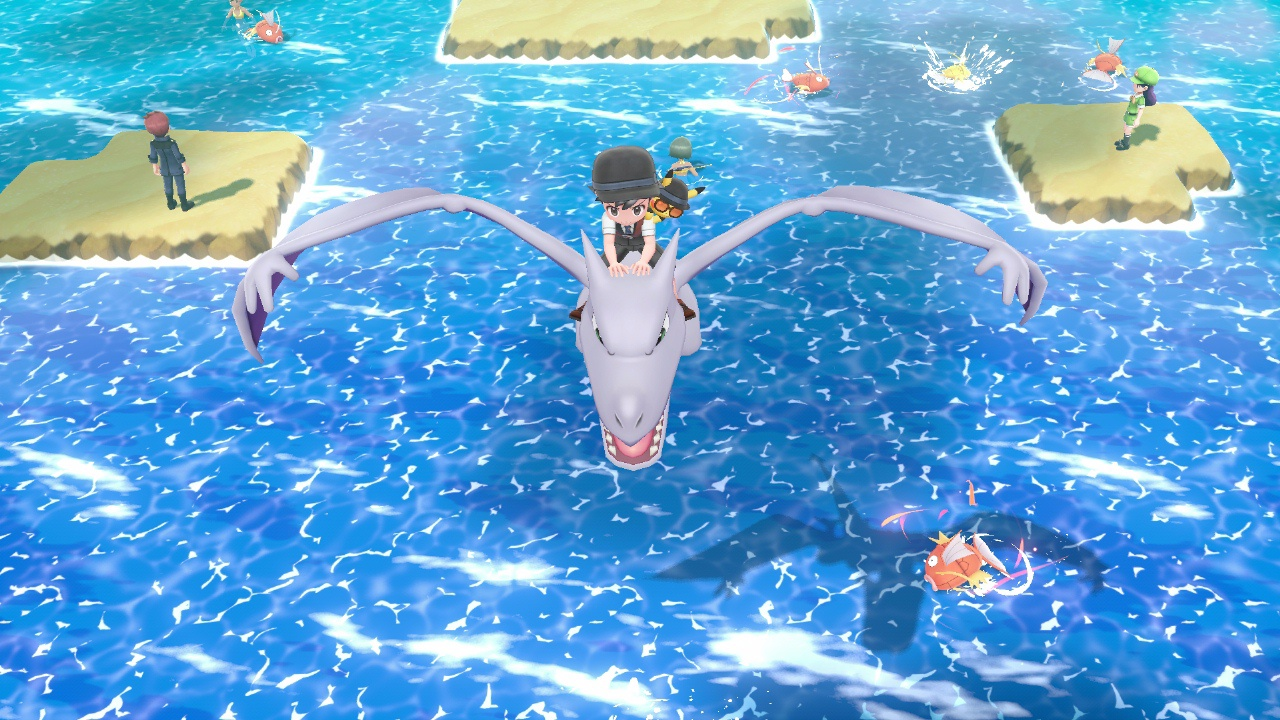Golden: (942, 64, 973, 80)
